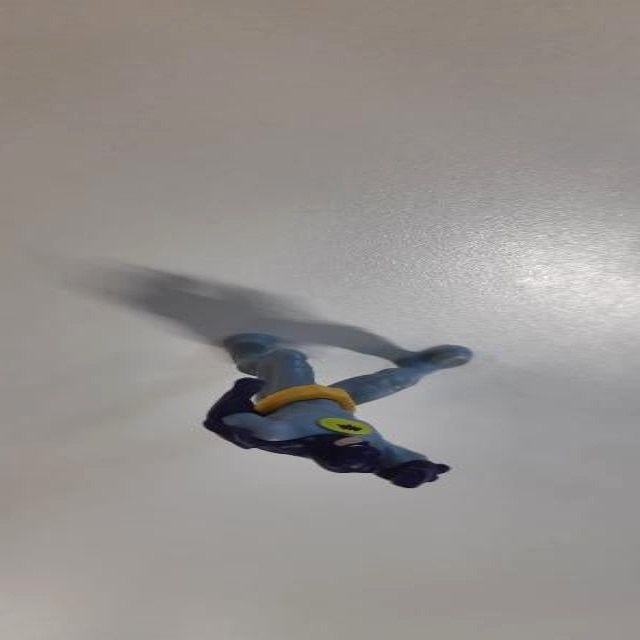Batman: (163, 305, 497, 515)
